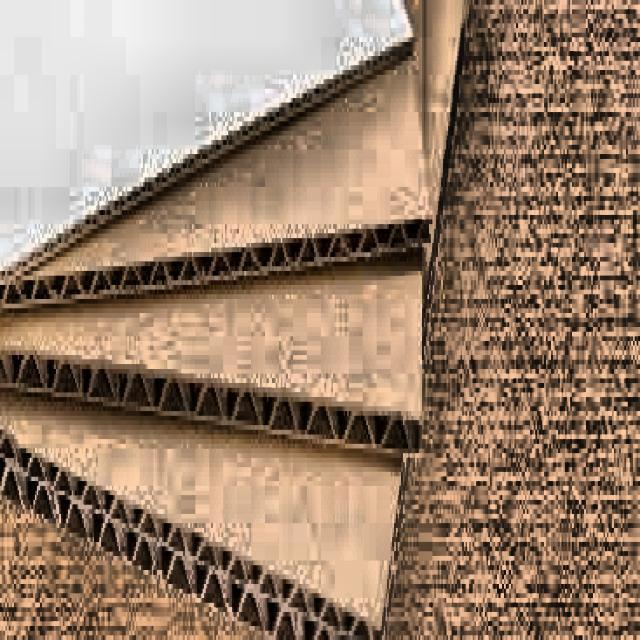cardboard: (0, 0, 465, 635)
